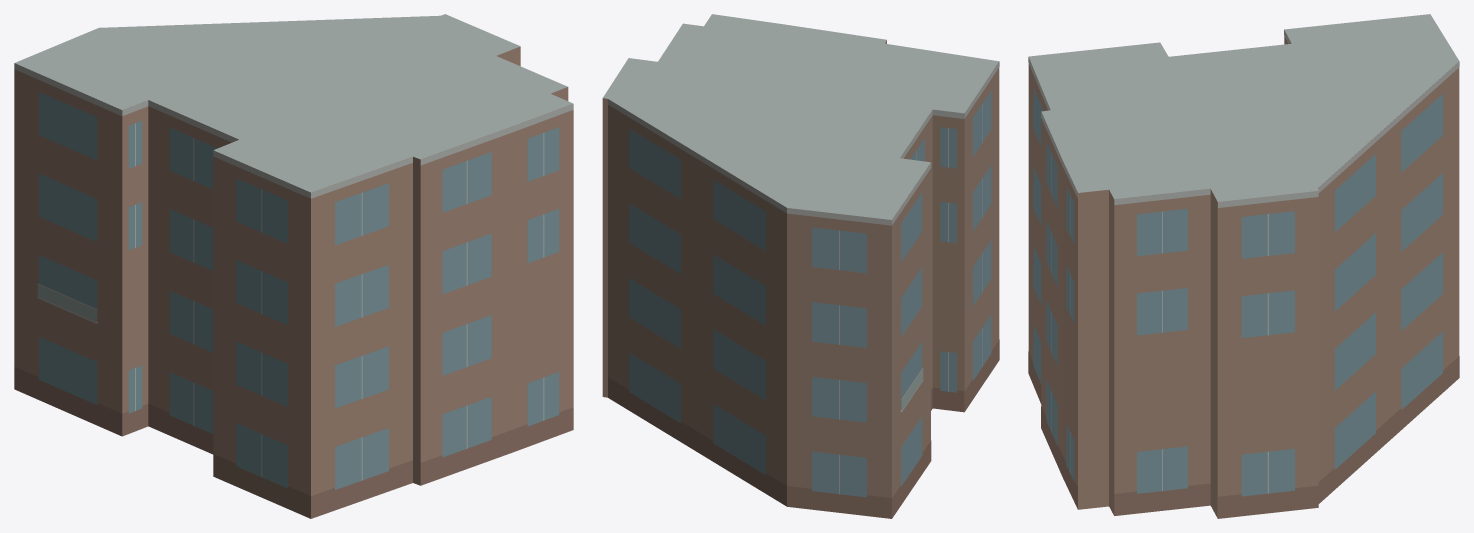
File: survey-upis-32530842.glb
3 renders of one model, left to right at view 1: azimuth 30°, elevation 25°; view 2: azimuth 150°, elevation 25°; view 3: azimuth 270°, elevation 25°, orthographic. The views are drawn at different scales.
Visible parts, largest first — view 1: survey-upis-32530842.tmp; view 2: survey-upis-32530842.tmp; view 3: survey-upis-32530842.tmp.
Boxes of the visible parts, bbox=[...] form: survey-upis-32530842.tmp: bbox=[14, 14, 573, 518]; survey-upis-32530842.tmp: bbox=[602, 14, 999, 518]; survey-upis-32530842.tmp: bbox=[1028, 14, 1459, 518].
Size of the model in its own units: 16.5 by 12.95 by 15.98.
